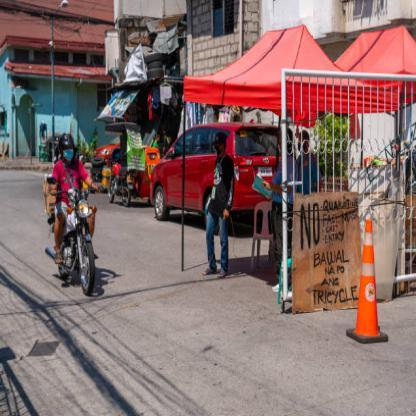Motorcycle: (42, 174, 114, 306)
